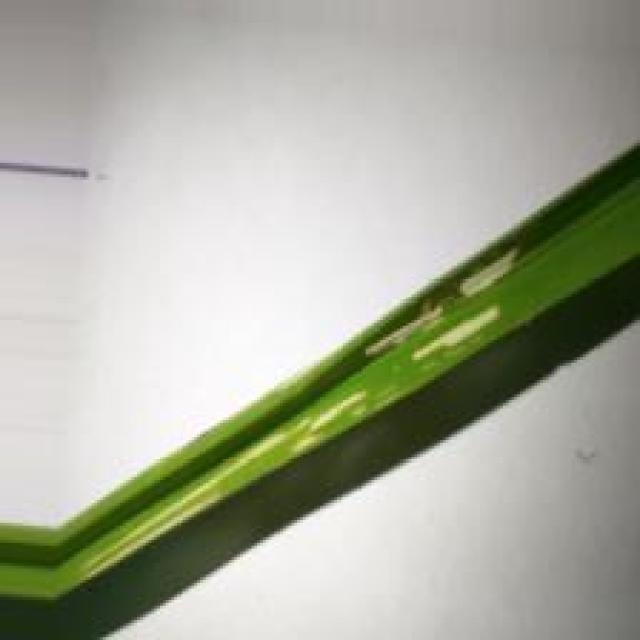Rice_Hispa: (83, 398, 372, 584), (406, 305, 500, 357), (361, 305, 448, 355), (459, 253, 517, 303)
